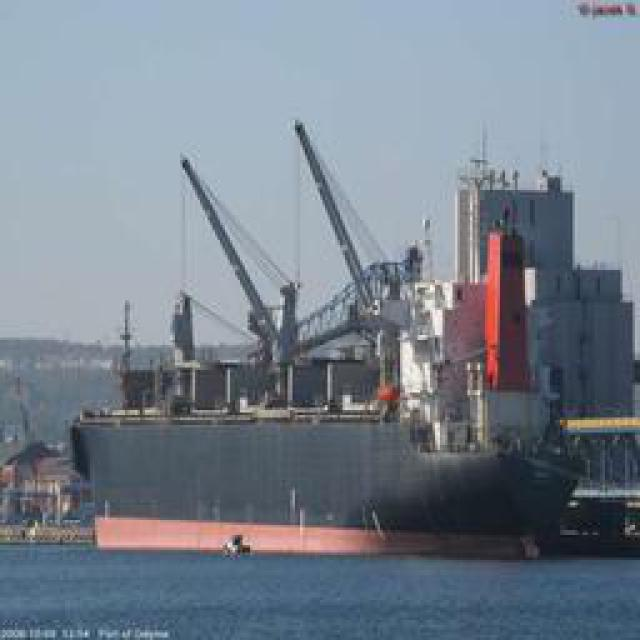Ship: (65, 111, 610, 546)
